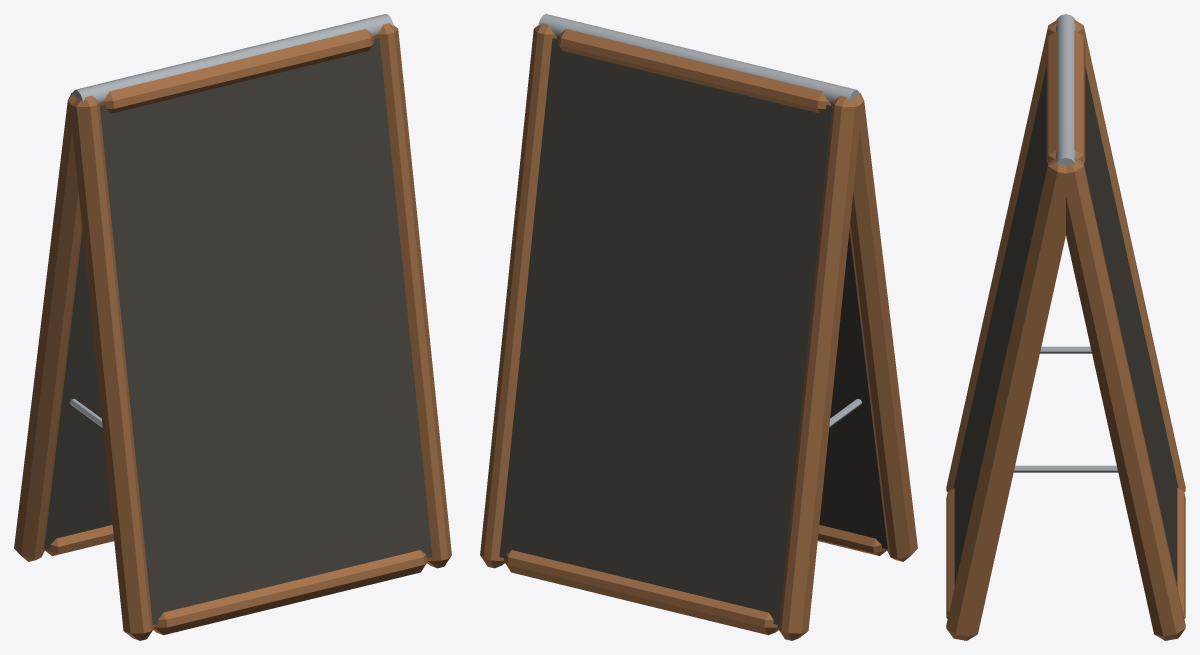
The model's file is sign_aboard.glb.
3 renders of one model, left to right at view 1: azimuth 30°, elevation 25°; view 2: azimuth 150°, elevation 25°; view 3: azimuth 270°, elevation 25°, orthographic. The views are drawn at different scales.
Parts seen in each view (by area): view 1: sign_aboard; view 2: sign_aboard; view 3: sign_aboard.
Boxes of the visible parts, box(x1,y1,x2,y2) form: sign_aboard: box(14, 14, 451, 640); sign_aboard: box(480, 14, 917, 640); sign_aboard: box(946, 14, 1185, 640).
Size of the model in its own units: 0.6 by 0.9103 by 0.4077.
